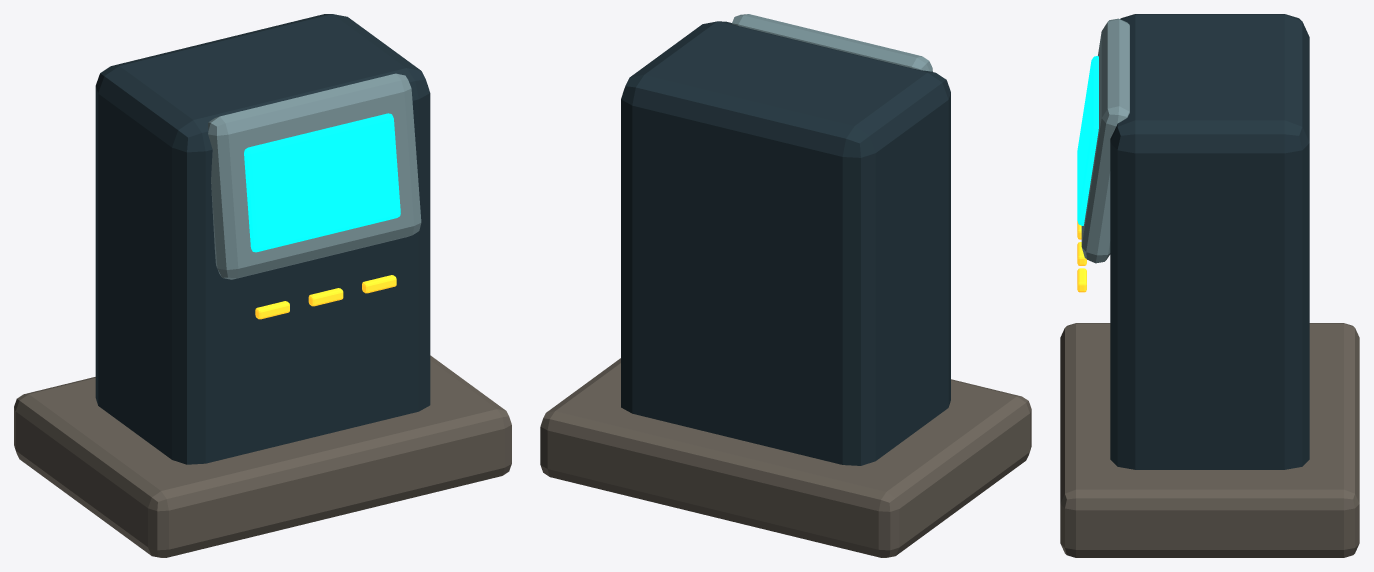
The model's file is Terminal.glb.
3 renders of one model, left to right at view 1: azimuth 30°, elevation 25°; view 2: azimuth 150°, elevation 25°; view 3: azimuth 270°, elevation 25°, orthographic. The views are drawn at different scales.
Parts seen in each view (by area): view 1: Terminal_Body, Terminal_Base, Terminal_ScreenFrame, Terminal_Screen; view 2: Terminal_Body, Terminal_Base, Terminal_ScreenFrame; view 3: Terminal_Body, Terminal_Base, Terminal_ScreenFrame, Terminal_Screen.
Boxes of the visible parts, x1=… form: Terminal_Body: x1=95, y1=14, x2=430, y2=464; Terminal_Base: x1=14, y1=355, x2=511, y2=557; Terminal_ScreenFrame: x1=208, y1=73, x2=421, y2=279; Terminal_Screen: x1=244, y1=113, x2=400, y2=252; Terminal_Body: x1=621, y1=21, x2=950, y2=465; Terminal_Base: x1=540, y1=358, x2=1031, y2=557; Terminal_ScreenFrame: x1=732, y1=14, x2=932, y2=71; Terminal_Body: x1=1110, y1=14, x2=1309, y2=469; Terminal_Base: x1=1060, y1=323, x2=1359, y2=557; Terminal_ScreenFrame: x1=1081, y1=18, x2=1129, y2=263; Terminal_Screen: x1=1077, y1=56, x2=1098, y2=225.
Bounding box in the file's own units: 1.36 × 1.46 × 0.96.
